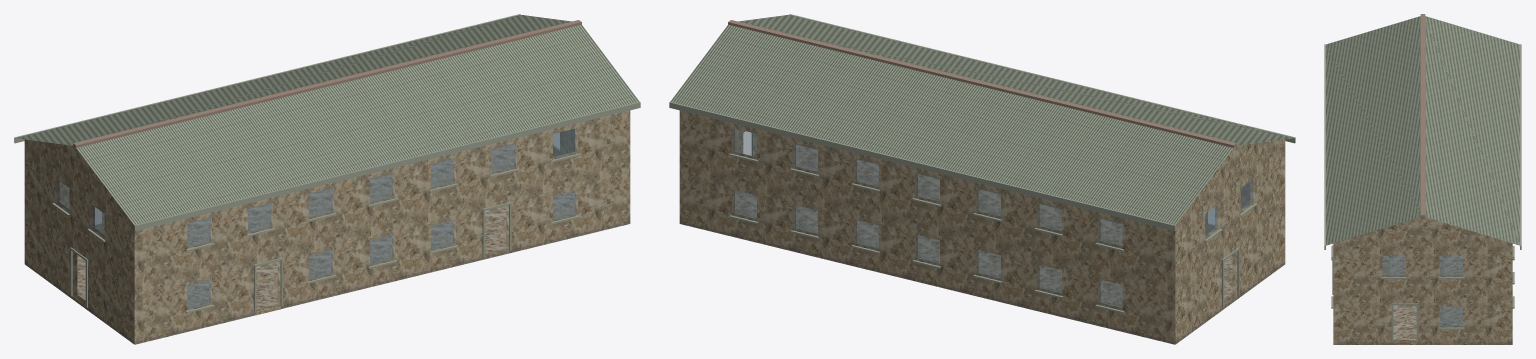
The model's file is barracks-2s.reveal-v1.lod1.glb.
The picture shows the model from 3 angles, left to right: view 1: azimuth 30°, elevation 25°; view 2: azimuth 150°, elevation 25°; view 3: azimuth 270°, elevation 25°; orthographic projection. The views are drawn at different scales.
Visible parts, largest first — view 1: barracks-2s; view 2: barracks-2s; view 3: barracks-2s.
Part boxes in pixels (box(x1,y1,x2,y2)): barracks-2s: box(14, 14, 640, 344); barracks-2s: box(669, 14, 1295, 344); barracks-2s: box(1324, 14, 1521, 344).
Bounding box in the file's own units: 26.54 × 8.1 × 10.98.
Materials: 4 (2 with a texture image).
